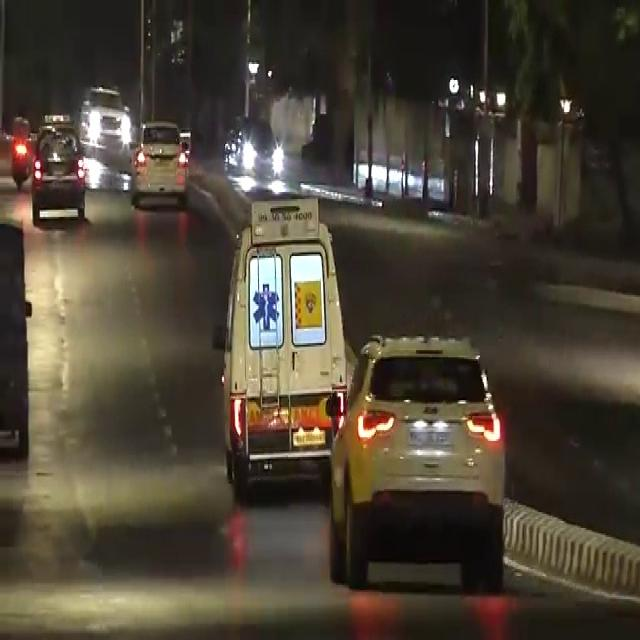ambulance: (209, 174, 343, 470)
